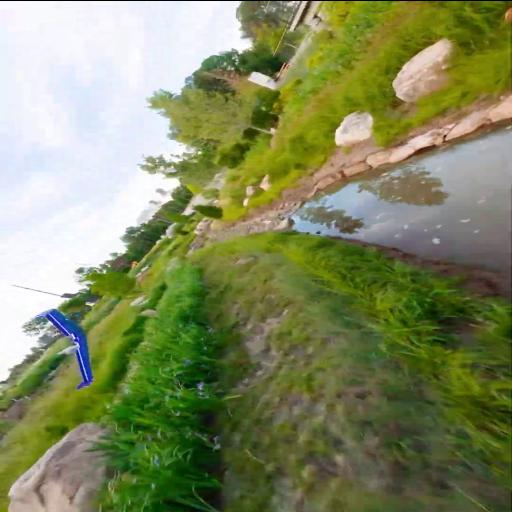uav: (28, 306, 100, 392)
